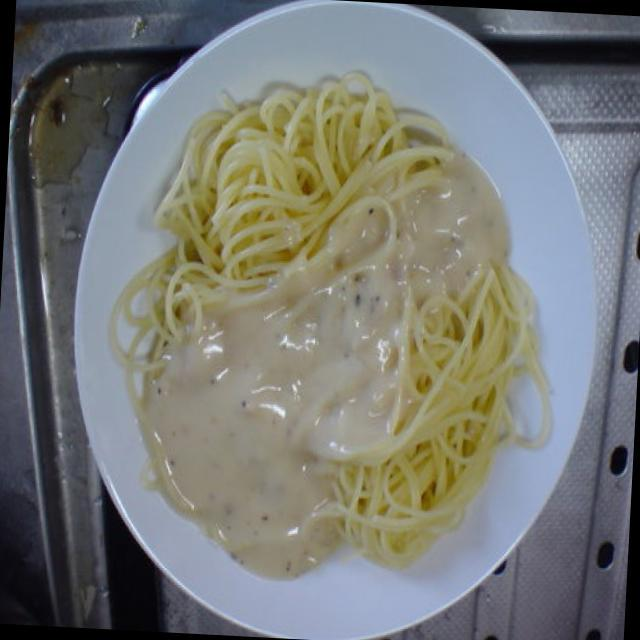Pasta: (116, 70, 539, 594)
